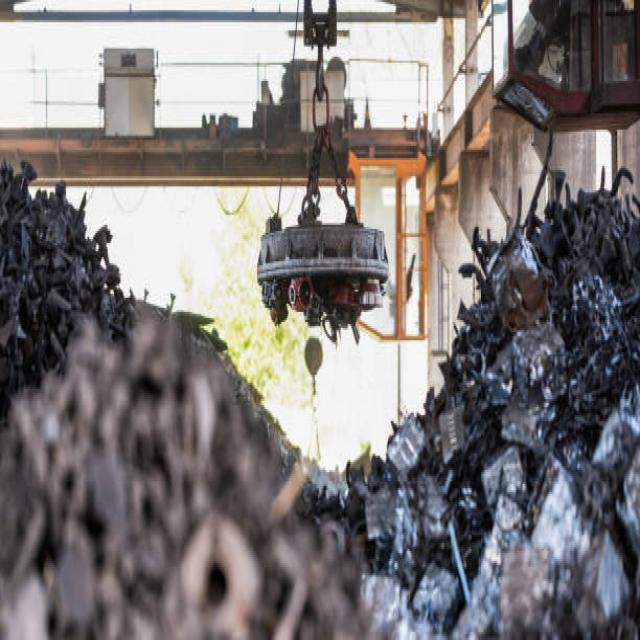metal: (371, 389, 607, 618)
